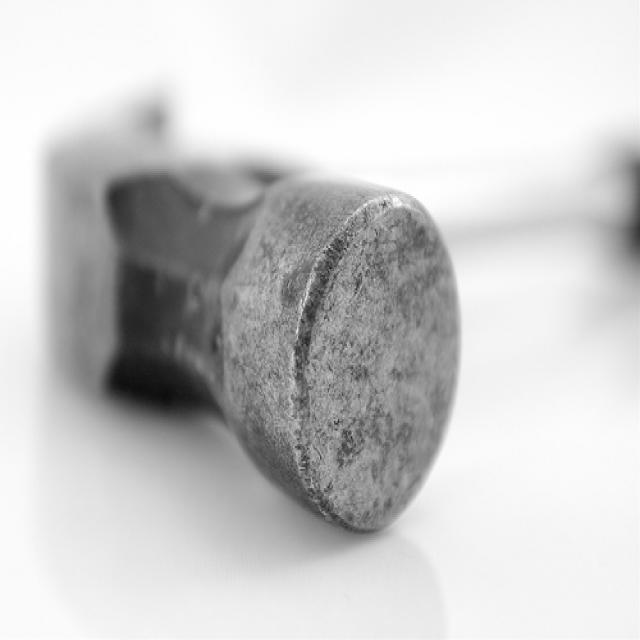hammer: (9, 0, 639, 557)
